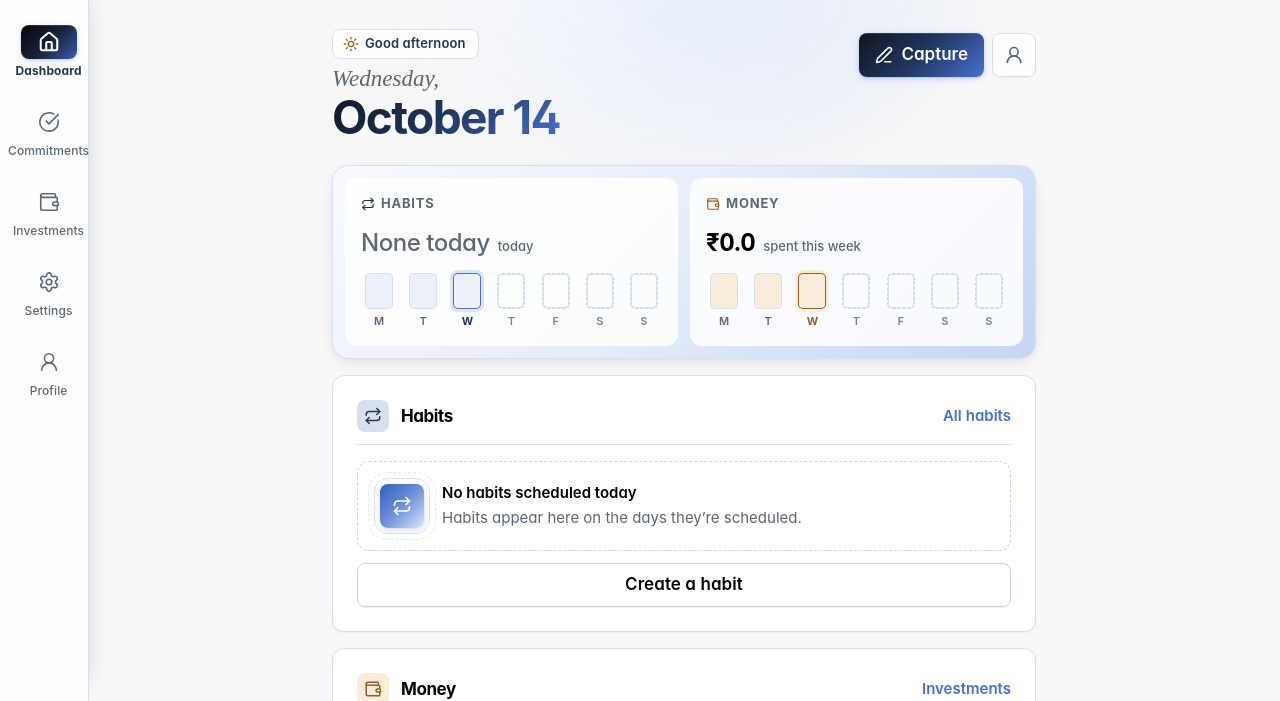
Test: learning capture › quick capture saves a one-line note that appears in Insights
This screenshot has width=1280, height=701.
Click the button with aria-label "Capture a note, task, or expense".
click(922, 55)  # box top-left (859, 33), bottom-right (984, 77)
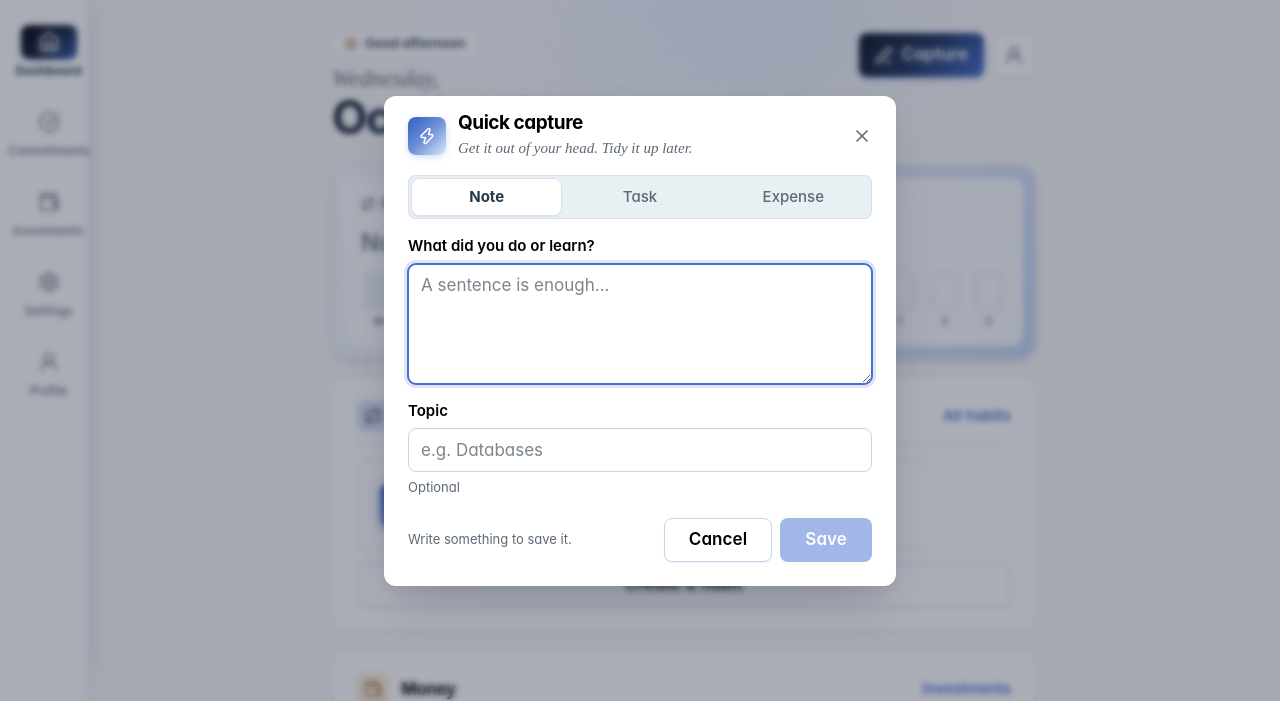
Type "Native dialog traps focus for free" into the text box labelled "What did you do or learn?".
click(640, 324); type("Native dialog traps focus for free")  # box top-left (408, 264), bottom-right (872, 384)
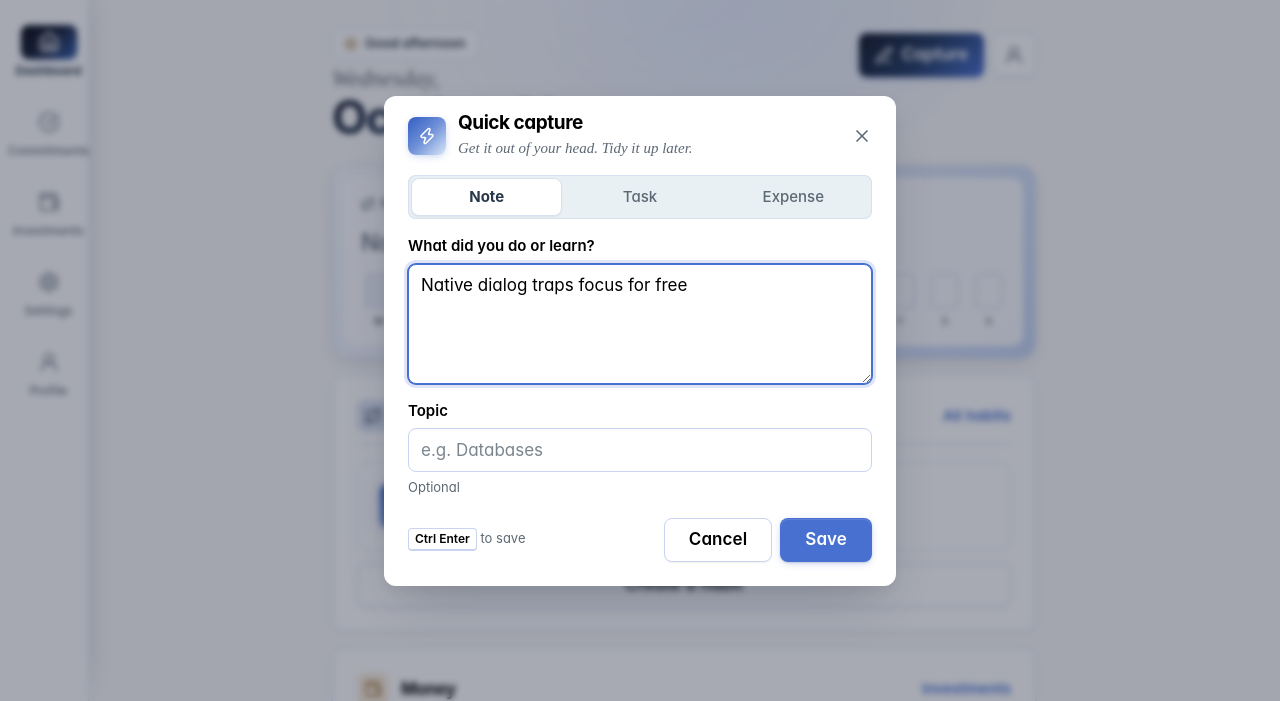
Click the button "Save".
click(826, 540)  # box top-left (780, 518), bottom-right (872, 562)
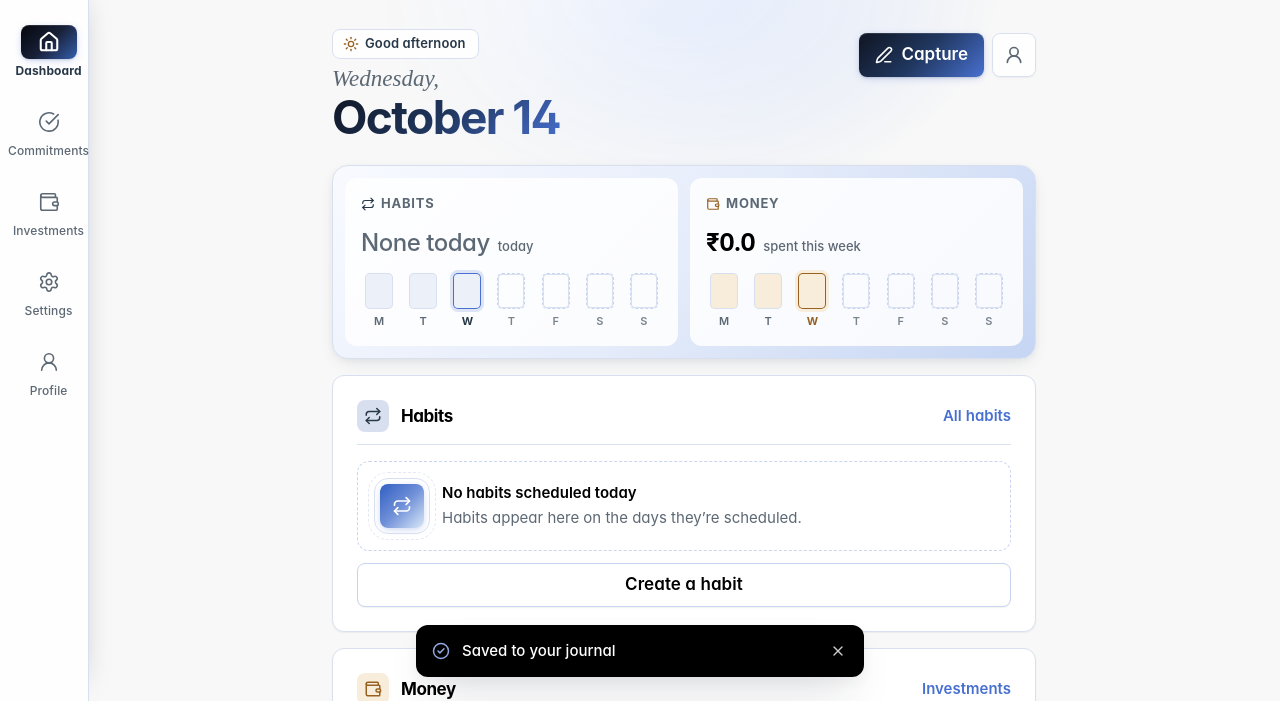
Check: the text "Saved to your journal" is shown, box top-left (462, 641), bottom-right (616, 660)
Click the link "Settings".
click(49, 294)  # box top-left (25, 271), bottom-right (73, 318)
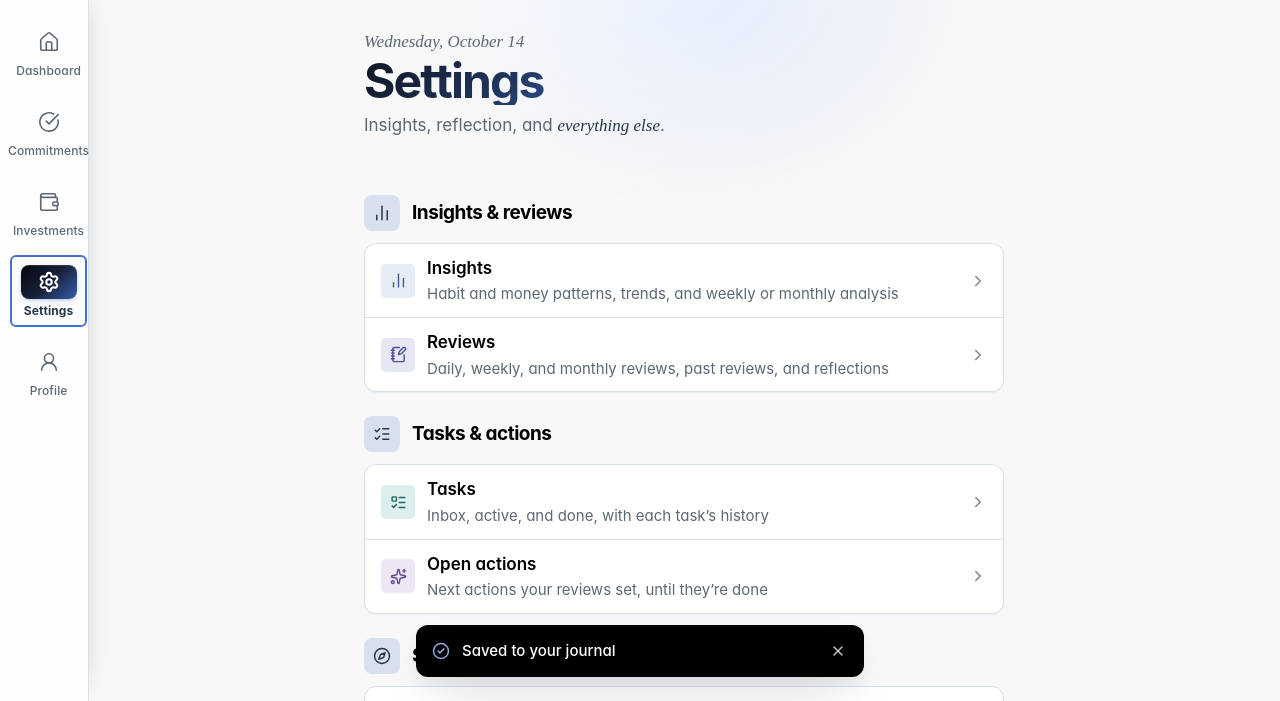
Click the link "Insights".
click(398, 281)  # box top-left (365, 244), bottom-right (1003, 318)
(page scrolled)
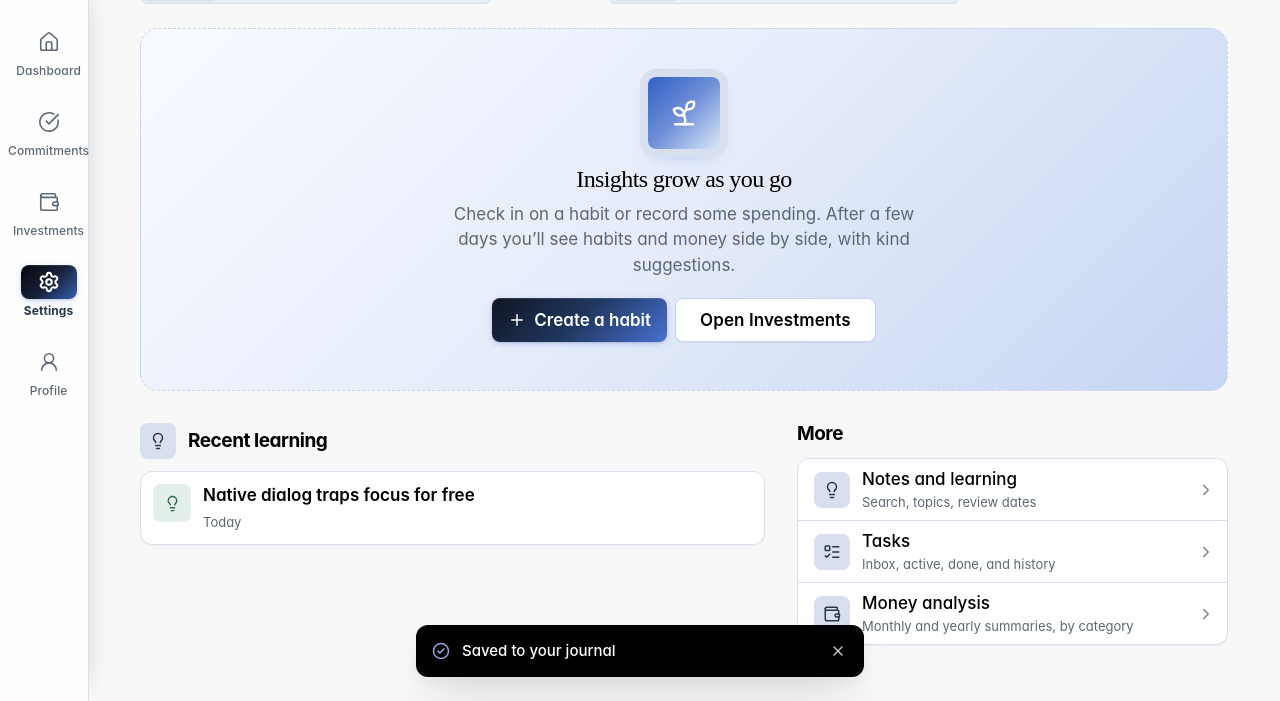
Check: the text "Native dialog traps focus for free" is shown, box top-left (203, 485), bottom-right (475, 505)
